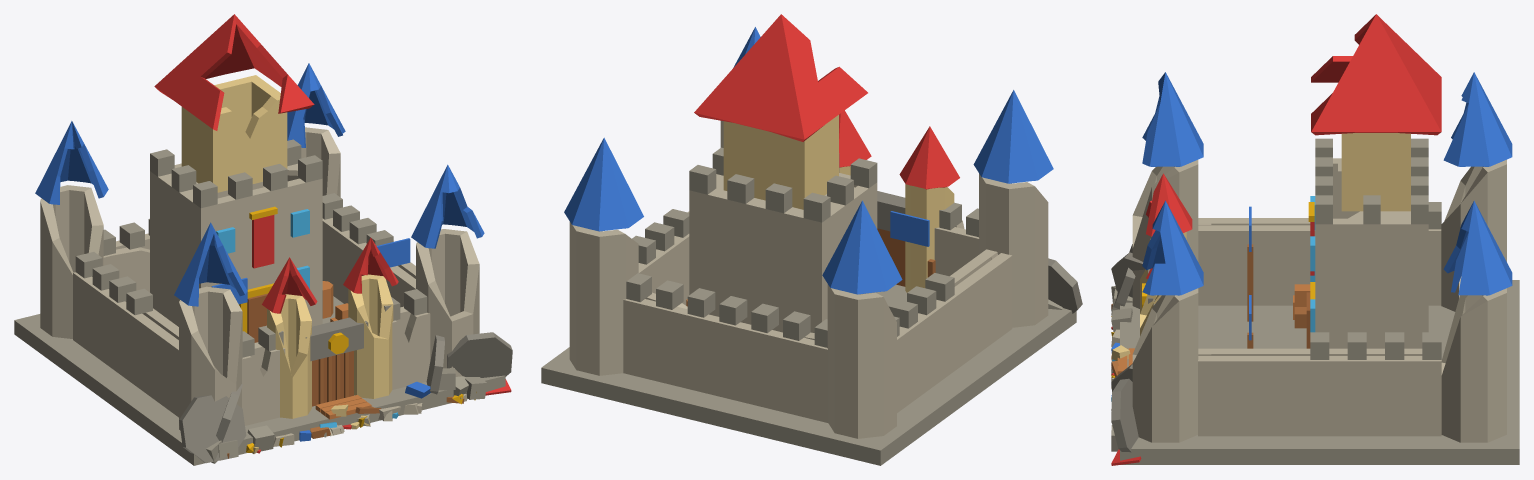
The model's file is castle_v1_dmg1.glb.
3 views of the same model, side by side, from view 1: azimuth 30°, elevation 25°; view 2: azimuth 150°, elevation 25°; view 3: azimuth 270°, elevation 25° (orthographic). The views are drawn at different scales.
Visible parts, largest first — view 1: castle_v1_dmg1; view 2: castle_v1_dmg1; view 3: castle_v1_dmg1.
Part boxes in pixels (bbox=[...]): castle_v1_dmg1: bbox=[14, 14, 512, 465]; castle_v1_dmg1: bbox=[541, 14, 1082, 465]; castle_v1_dmg1: bbox=[1111, 14, 1519, 465].
Size of the model in its own units: 0.96 by 0.93 by 0.94.
Materials: 1 (1 with a texture image).
